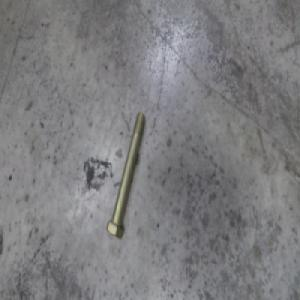Bolt: (107, 117, 146, 244)
